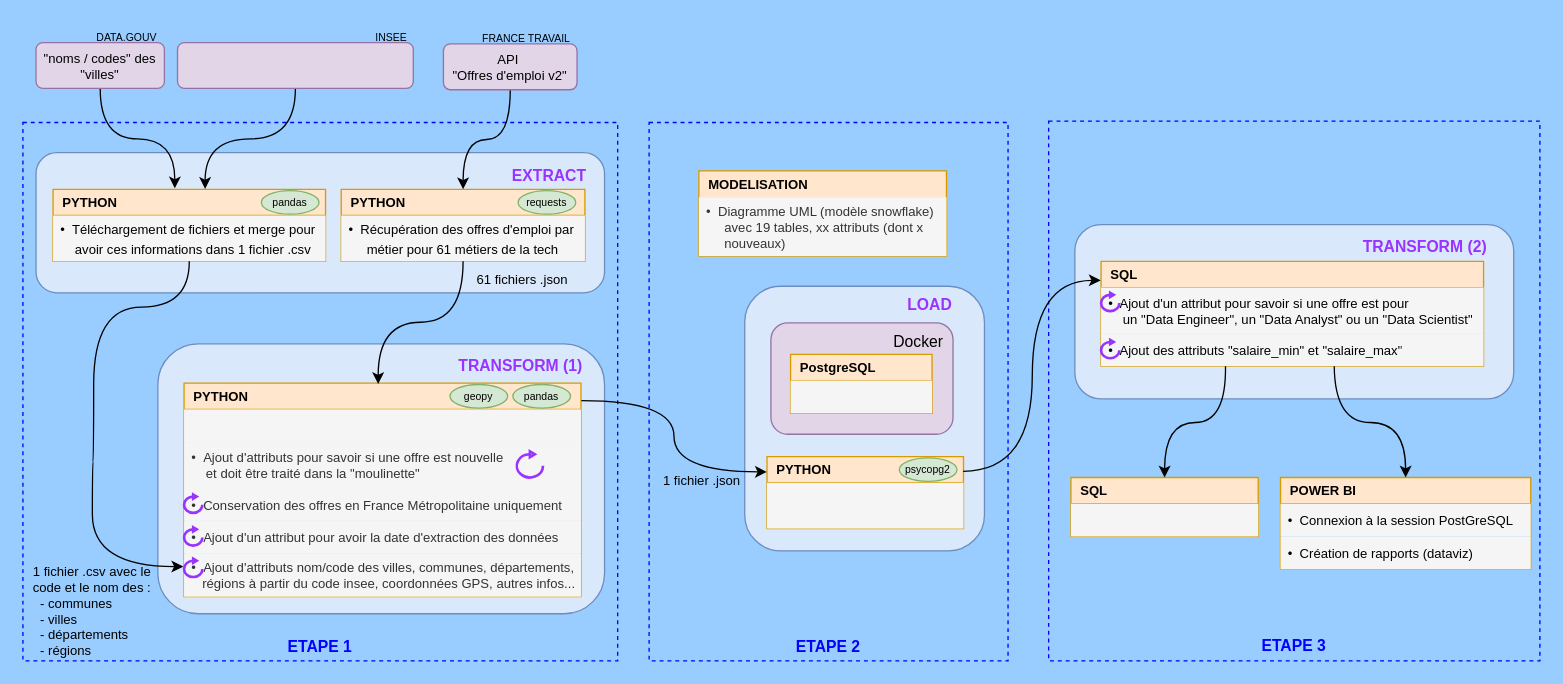
Image size: 1563x684. Some labels were removed from this diagram. The shapes that lost their labels are listed below. From the top down, each one's centre as x and y in pixels, then its label:
pixel 294 64: "noms / codes" des "communes / départements / régions"
pixel 860 396: • Création des tables
pixel 381 425: • Consolidation des fichiers avec suppression de doublons
pixel 864 505: • Récupération de valeurs et écriture en base de données
pixel 1164 519: • Création de requêtes SQL
